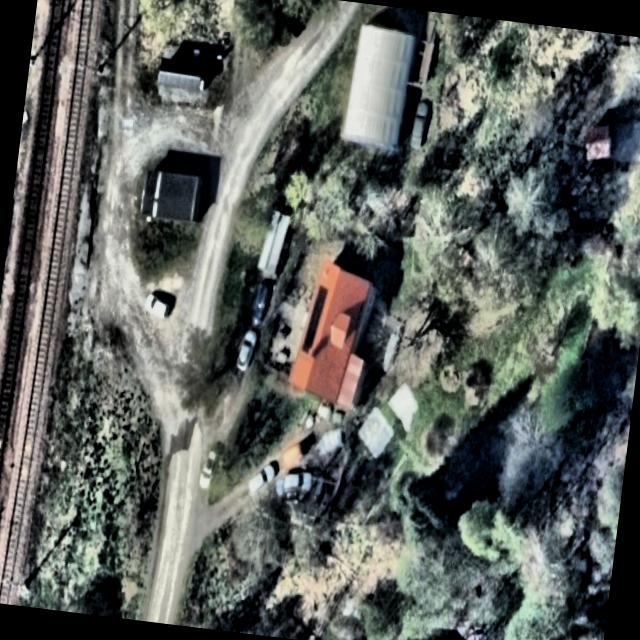roof_pv: (300, 280, 329, 358)
